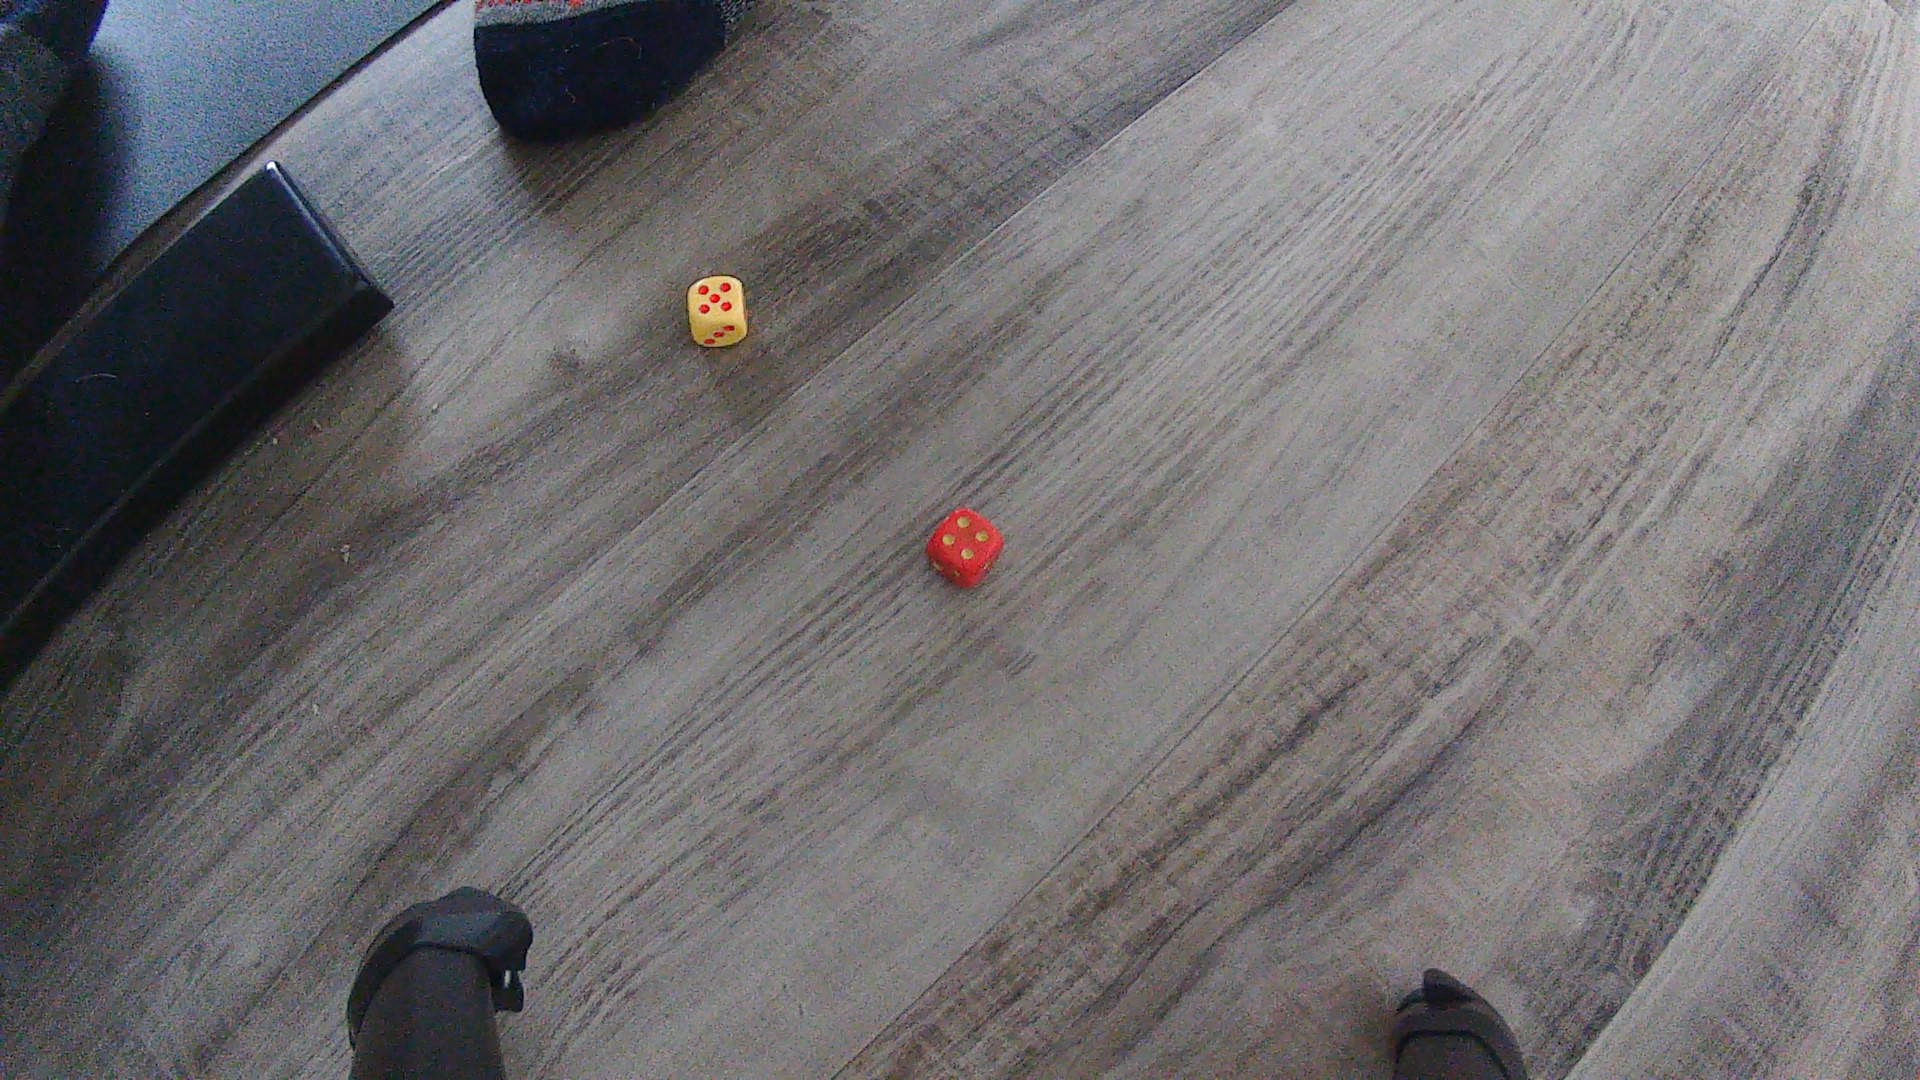die: (924, 506, 1007, 589), (684, 276, 750, 349)
